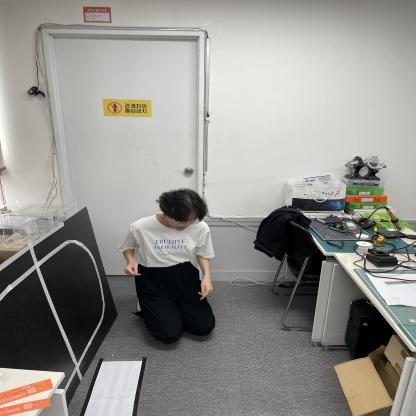fall: (125, 186, 217, 345)
